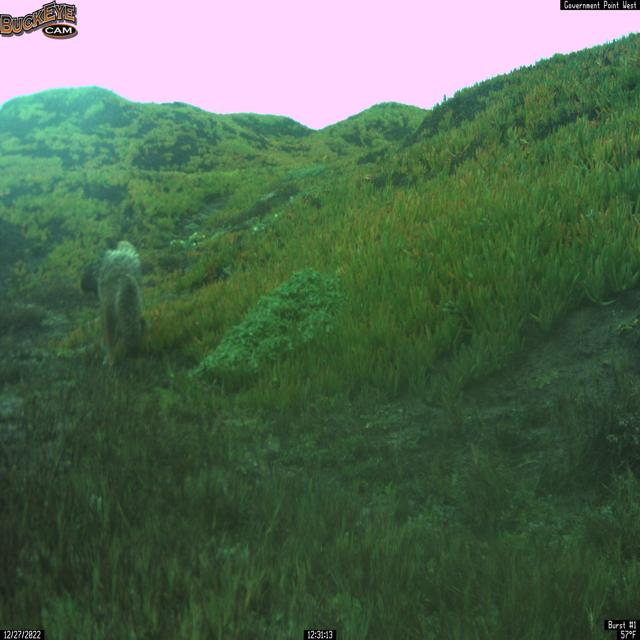coyote: (79, 238, 148, 370)
